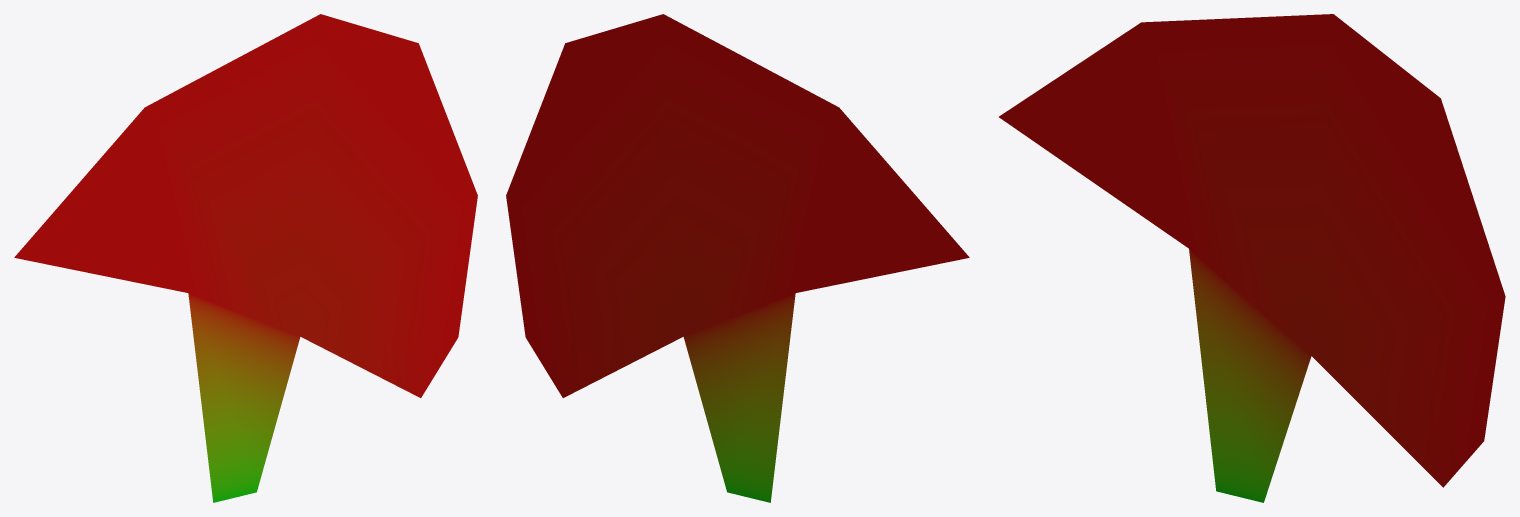
The model's file is Lily Of The Valley_LOD7_Var5_xikkdhjja.fbx.
3 renders of one model, left to right at view 1: azimuth 30°, elevation 25°; view 2: azimuth 150°, elevation 25°; view 3: azimuth 330°, elevation 25°, orthographic. The views are drawn at different scales.
Visible parts, largest first — view 1: _vrlp_Var5_LOD7; view 2: _vrlp_Var5_LOD7; view 3: _vrlp_Var5_LOD7.
Boxes of the visible parts, box(x1,y1,x2,y2) form: _vrlp_Var5_LOD7: box(14, 14, 477, 502); _vrlp_Var5_LOD7: box(506, 14, 969, 502); _vrlp_Var5_LOD7: box(999, 14, 1505, 502).
Size of the model in its own units: 37.65 by 35.89 by 1.95e-08.
